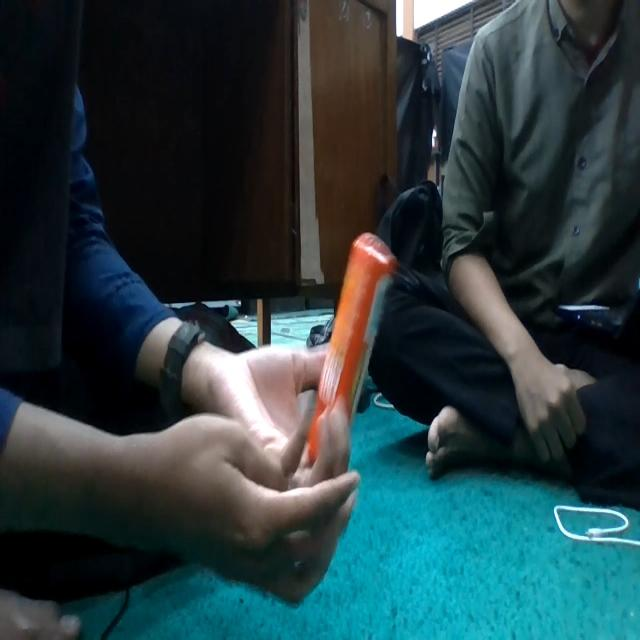Boncabe: (306, 233, 396, 460)
